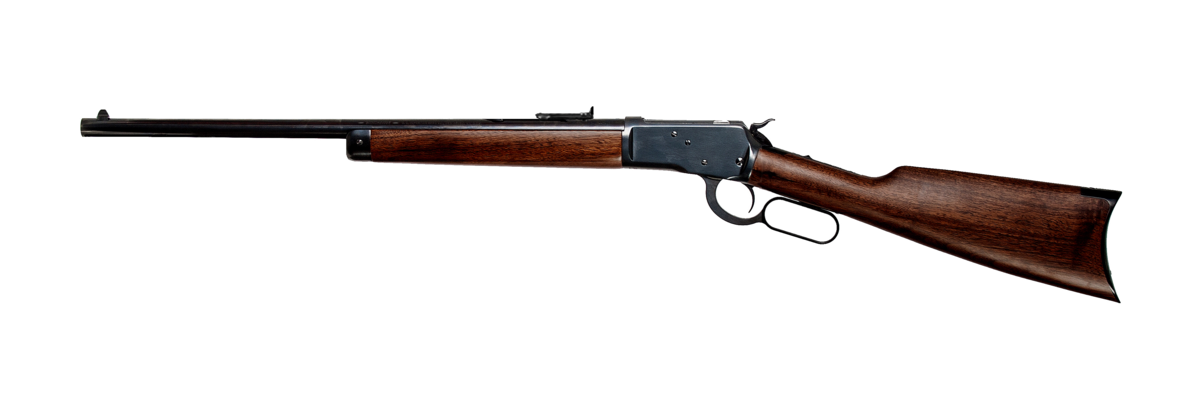Arma Real: (76, 105, 1128, 309)
